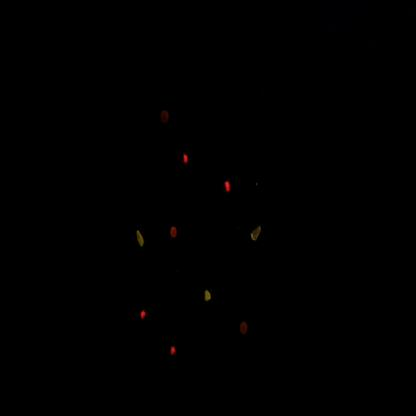PET: (180, 145, 195, 172), (137, 302, 151, 329), (166, 340, 183, 362), (222, 173, 235, 201)
PP: (130, 223, 151, 255), (248, 217, 268, 248), (197, 283, 216, 315)
PS: (235, 315, 253, 345), (157, 102, 174, 130), (167, 220, 182, 247)
